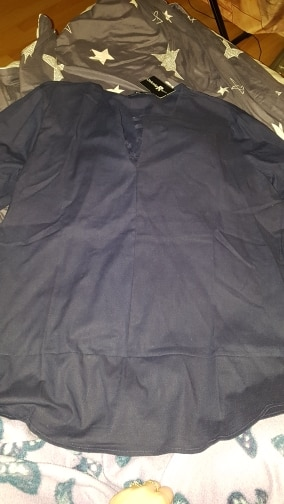shirts: (13, 74, 284, 432)
